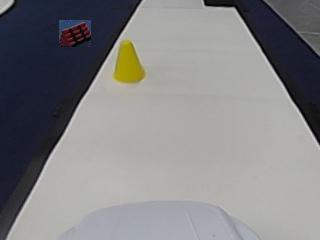cone: (113, 42, 144, 82)
